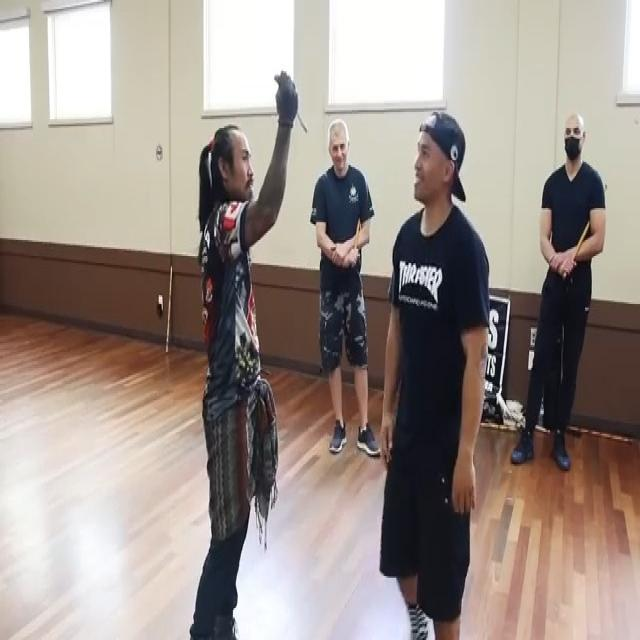Sharp-Object: (272, 67, 311, 136)
Violence: (197, 70, 488, 438)
